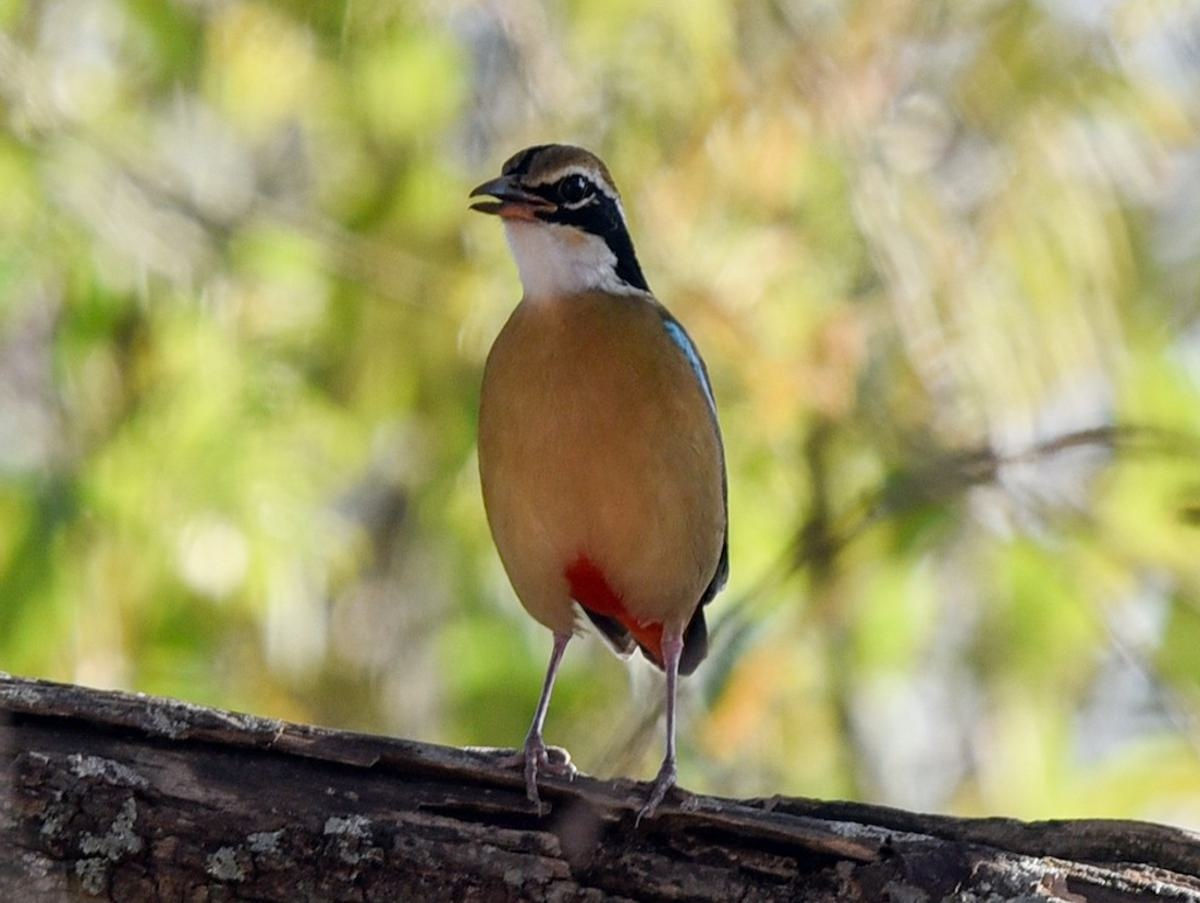pitta: (421, 123, 804, 801)
